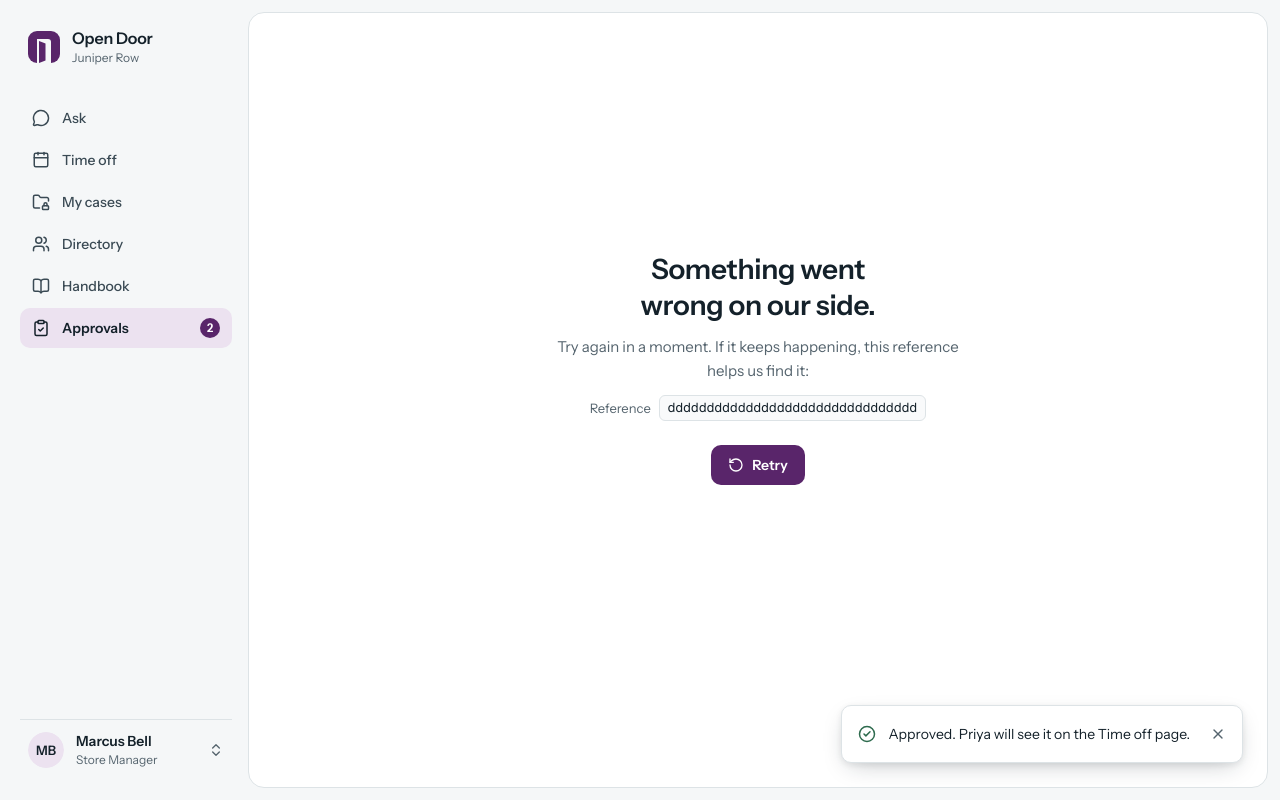
Test: Approvals: loading and failing › lets a failed first load reach the global error page, with Retry
The width and height of the screenshot is (1280, 800).
Expected: the heading "Something went wrong on our side." is shown, [640,252,876,322]
Click the button "Retry".
click(758, 465)  # box [711,445,805,485]
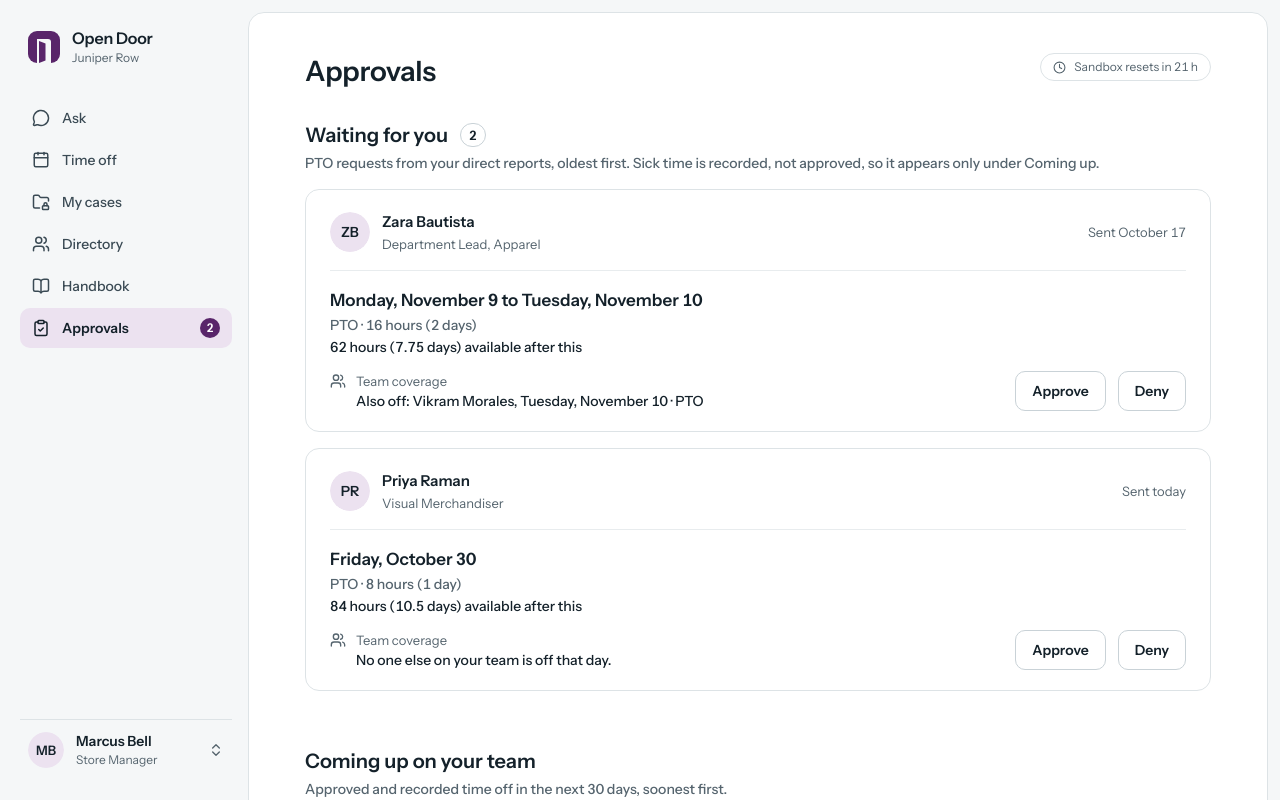
Now the heading "Waiting for you 2" is shown, box [305,123,486,147]
